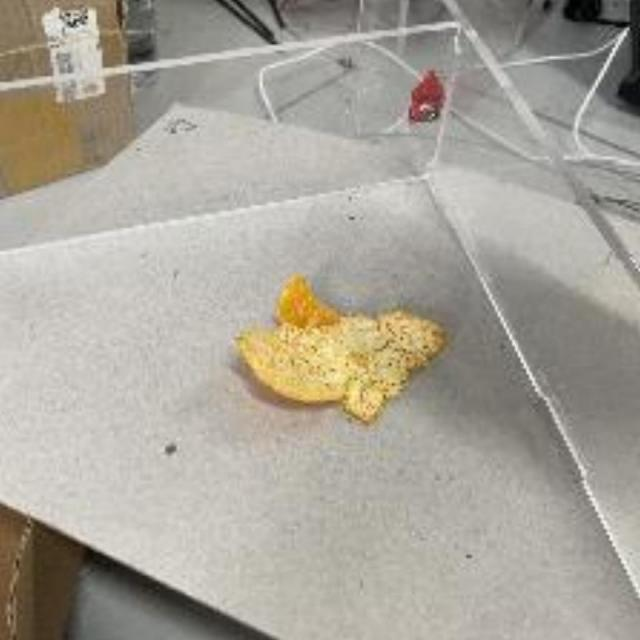orange peel: (225, 268, 448, 429)
